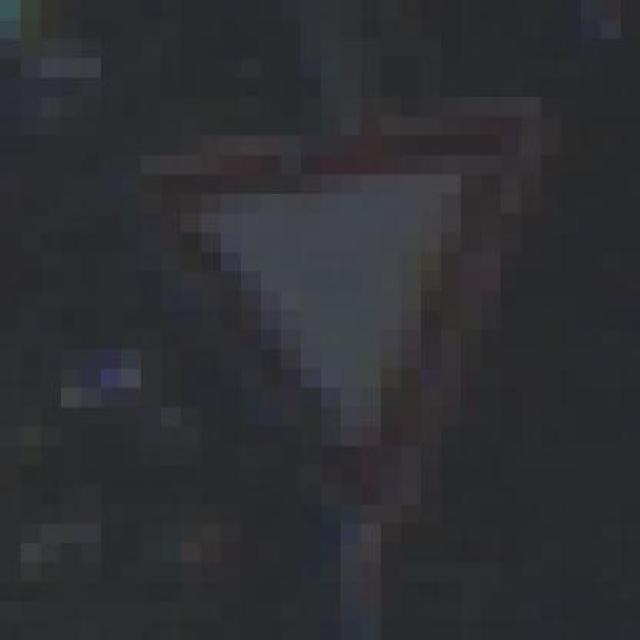Give Way: (97, 86, 617, 552)
